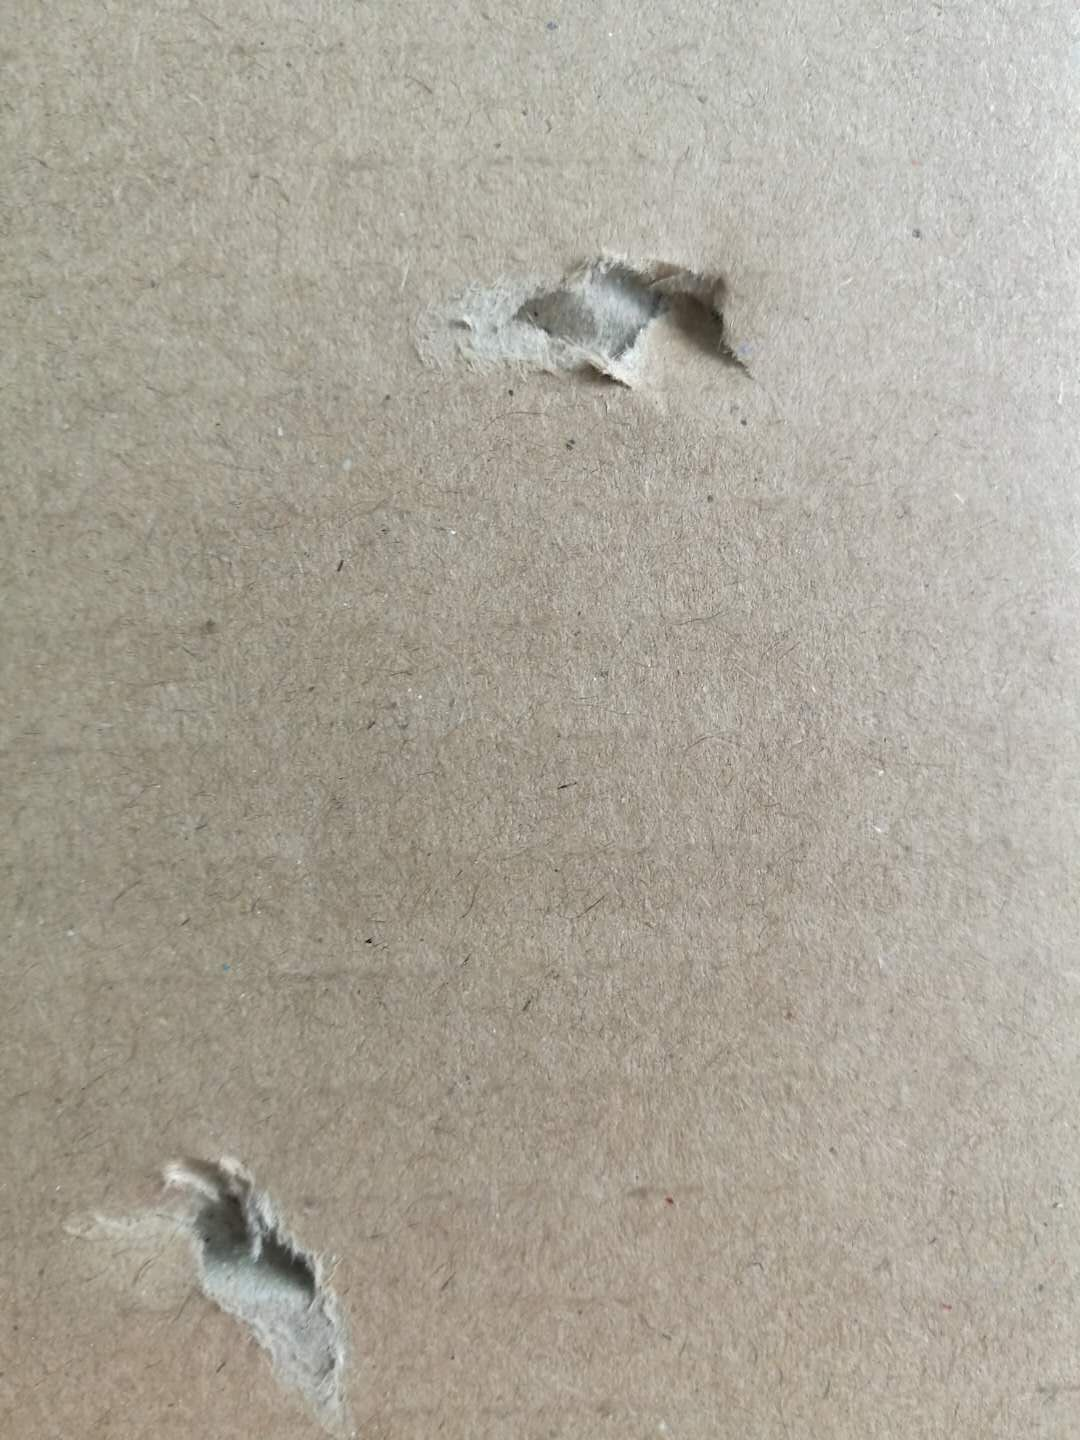defect: (48, 1127, 387, 1440), (393, 201, 817, 450)
